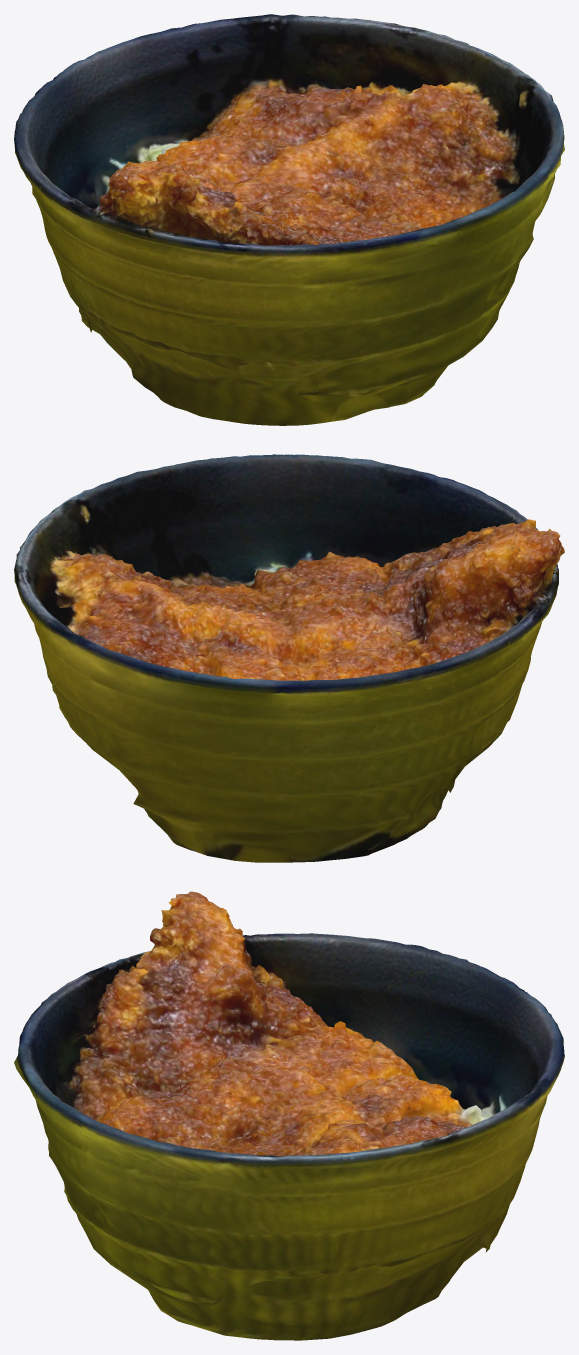
Rendered from SauceSasamiKatsudon.glb.
The picture shows the model from 3 angles, top to bottom: view 1: azimuth 30°, elevation 25°; view 2: azimuth 150°, elevation 25°; view 3: azimuth 270°, elevation 25°; orthographic projection.
Visible parts, largest first — view 1: bc9ab831-12e7-40bd-9b5d-a58672148de8; view 2: bc9ab831-12e7-40bd-9b5d-a58672148de8; view 3: bc9ab831-12e7-40bd-9b5d-a58672148de8.
Part boxes in pixels (x1,y1,x2,y2): bc9ab831-12e7-40bd-9b5d-a58672148de8: (14,14,564,425); bc9ab831-12e7-40bd-9b5d-a58672148de8: (14,454,564,862); bc9ab831-12e7-40bd-9b5d-a58672148de8: (14,891,564,1340).
Size of the model in its own units: 0.1789 by 0.1014 by 0.1797.
1 material, 1 textured.
